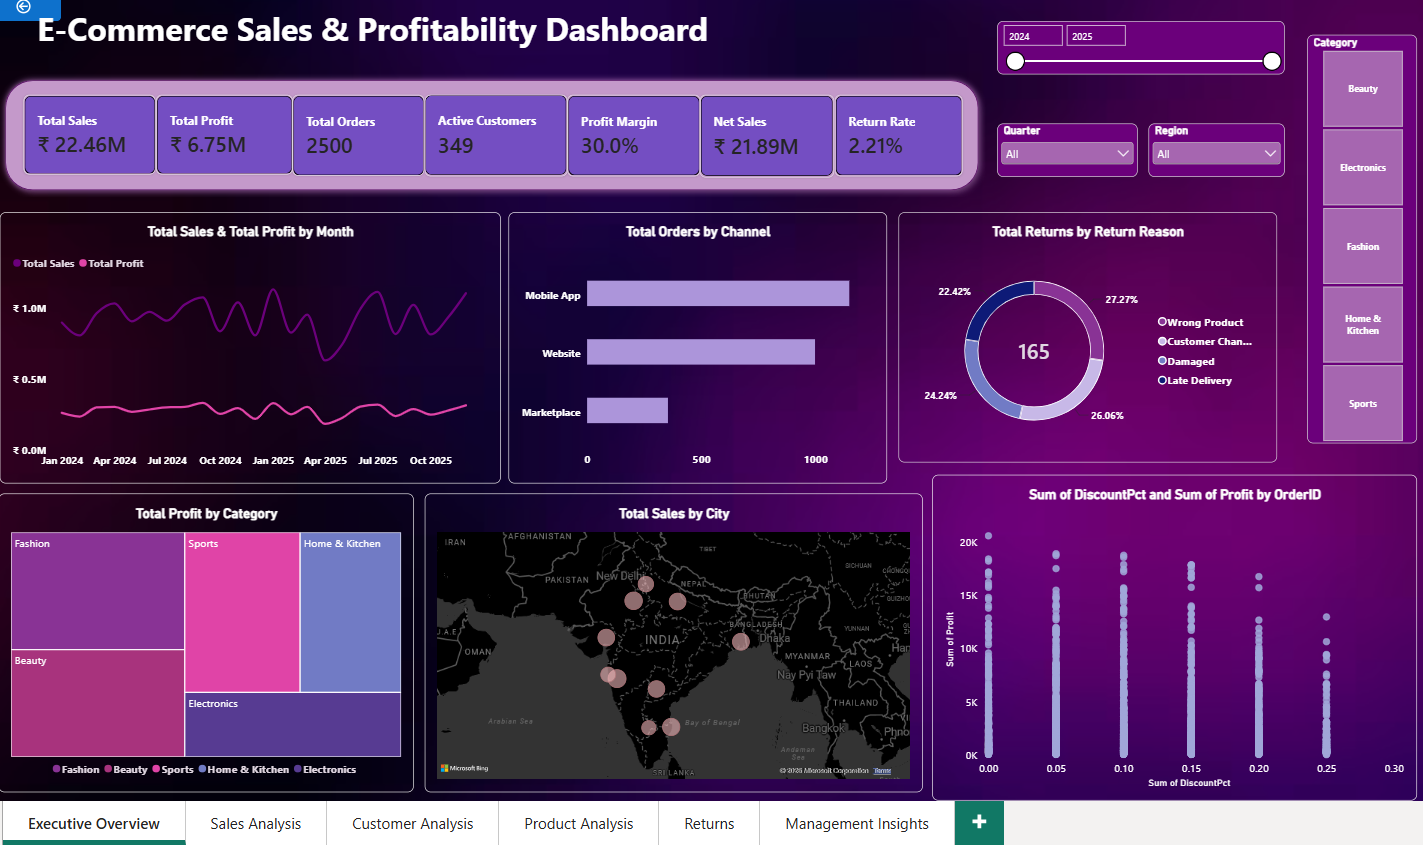

Layout of this report page (visuals, bound fields, positions):
{"tool":"powerbi","page":{"name":" Executive Overview ","canvas":[1920,1080],"ordinal":0},"visuals":[{"type":"shape","box":[16.3,110.4,1315.6,164.7],"z":1000},{"type":"cardVisual","fields":{"Data":["Customers.Total Sales"]},"box":[50.7,137.5,176,106],"z":2000},{"type":"cardVisual","fields":{"Data":["Customers.Total Profit"]},"box":[227.4,137.6,182,106],"z":3000},{"type":"cardVisual","fields":{"Data":["Customers.Total Orders"]},"box":[409,137.5,176,108],"z":4000},{"type":"cardVisual","fields":{"Data":["Customers.Profit Margin"]},"box":[774.5,137.5,177.3,108.6],"z":5000},{"type":"cardVisual","fields":{"Data":["Customers.Return Rate"]},"box":[1131,137.5,170.1,108.6],"z":6000},{"type":"cardVisual","fields":{"Data":["Customers.Net Sales"]},"box":[951.9,137.5,179.2,110.4],"z":7000},{"type":"lineChart","title":"Total Sales & Total Profit by Month","fields":{"Category":["Date.YearMonth"],"Y":["Customers.Total Sales","Customers.Total Profit"]},"box":[18.1,295,667.8,361.9],"z":8000},{"type":"treemap","fields":{"Group":["Products.Category"],"Values":["Customers.Total Profit"]},"box":[16.5,669.5,553.9,398],"z":9000},{"type":"barChart","fields":{"Category":["Orders.Channel"],"Y":["Customers.Total Orders"]},"box":[697,295.3,504.4,361.3],"z":10000},{"type":"donutChart","title":"Total Returns by Return Reason","fields":{"Category":["Returns.ReturnReason"],"Y":["Customers.Total Returns"]},"box":[1216.1,295.3,504.4,333.8],"z":11000},{"type":"map","fields":{"Category":["Regions.City"],"Size":["Customers.Total Sales"]},"box":[585.1,669.5,664,398],"z":12000},{"type":"scatterChart","fields":{"Category":["Orders.OrderID"],"X":["Sum(Orders.DiscountPct)"],"Y":["Sum(Orders.Profit)"]},"box":[1262,645.7,646,434],"z":13000},{"type":"actionButton","box":[0,0,100,40],"z":14000},{"type":"slicer","fields":{"Values":["Date.Year"]},"box":[1348.2,40.4,383.4,71.5],"z":15000},{"type":"slicer","fields":{"Values":["Date.Quarter"]},"box":[1348.2,176.1,187.1,71.5],"z":16000},{"type":"slicer","fields":{"Values":["Regions.Region"]},"box":[1549.9,176.1,181.6,71.5],"z":17000},{"type":"slicer","fields":{"Values":["Products.Category"]},"box":[1760.9,58.7,146.7,544.8],"z":18000},{"type":"textbox","box":[68.8,19.9,1026.1,92.3],"z":19000},{"type":"cardVisual","fields":{"Data":["Customers.Active Customers"]},"box":[584.5,137.5,190,108.6],"z":20000}]}

Visuals, with their boxes on the page's 1920x1080 design canvas (x1, y1, x2, y2). These are canvas units, not pixel positions in the 1423x845 screenshot, which may show the page scaled, cropped or inside an application window:
shape: [x1=16, y1=110, x2=1332, y2=275]
cardVisual - Customers.Total Sales: [x1=51, y1=138, x2=227, y2=244]
cardVisual - Customers.Total Profit: [x1=227, y1=138, x2=409, y2=244]
cardVisual - Customers.Total Orders: [x1=409, y1=138, x2=585, y2=246]
cardVisual - Customers.Profit Margin: [x1=774, y1=138, x2=952, y2=246]
cardVisual - Customers.Return Rate: [x1=1131, y1=138, x2=1301, y2=246]
cardVisual - Customers.Net Sales: [x1=952, y1=138, x2=1131, y2=248]
"Total Sales & Total Profit by Month" lineChart: [x1=18, y1=295, x2=686, y2=657]
treemap - Products.Category x Customers.Total Profit: [x1=16, y1=670, x2=570, y2=1068]
barChart - Orders.Channel x Customers.Total Orders: [x1=697, y1=295, x2=1201, y2=657]
"Total Returns by Return Reason" donutChart: [x1=1216, y1=295, x2=1720, y2=629]
map - Regions.City x Customers.Total Sales: [x1=585, y1=670, x2=1249, y2=1068]
scatterChart - Orders.OrderID x Sum(Orders.DiscountPct): [x1=1262, y1=646, x2=1908, y2=1080]
actionButton: [x1=0, y1=0, x2=100, y2=40]
slicer - Date.Year: [x1=1348, y1=40, x2=1732, y2=112]
slicer - Date.Quarter: [x1=1348, y1=176, x2=1535, y2=248]
slicer - Regions.Region: [x1=1550, y1=176, x2=1732, y2=248]
slicer - Products.Category: [x1=1761, y1=59, x2=1908, y2=604]
textbox: [x1=69, y1=20, x2=1095, y2=112]
cardVisual - Customers.Active Customers: [x1=584, y1=138, x2=774, y2=246]
